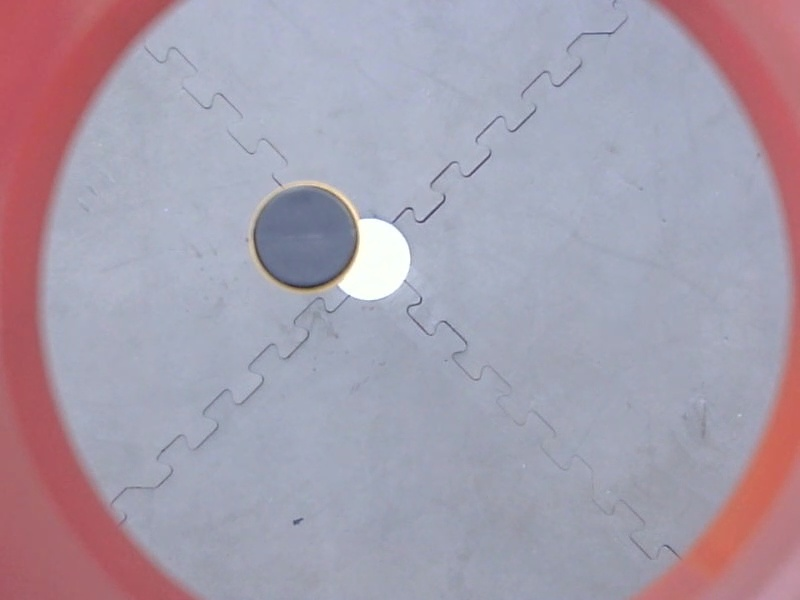tip: (245, 177, 369, 300)
